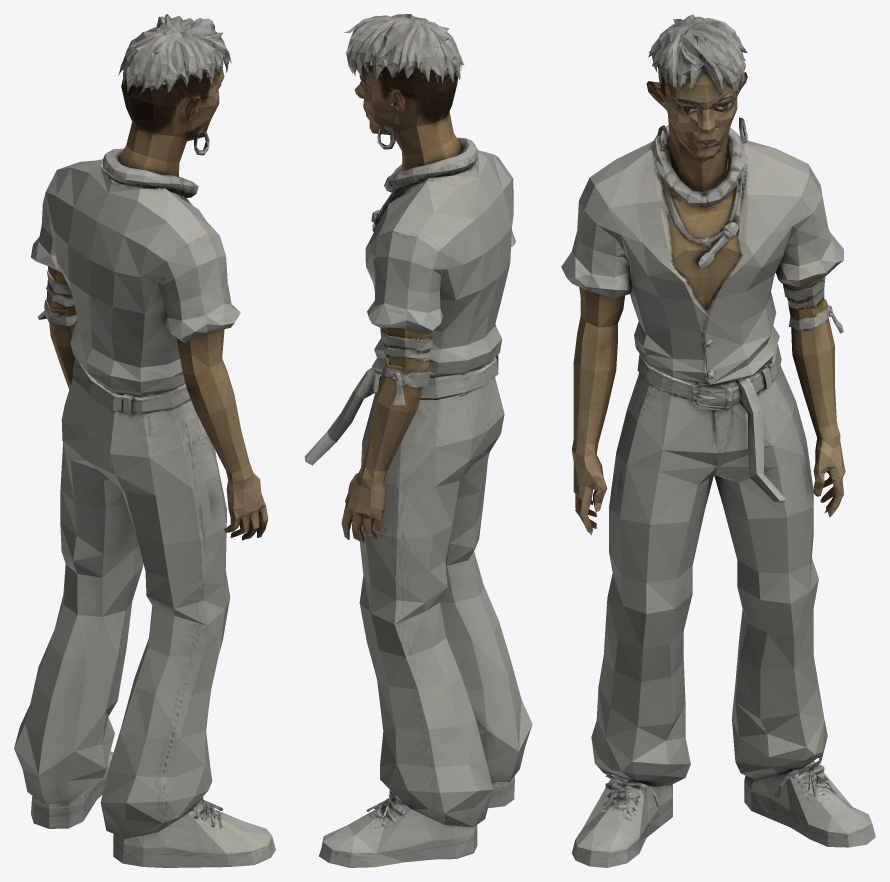
Rendered from student_11.glb.
3 renders of one model, left to right at view 1: azimuth 30°, elevation 25°; view 2: azimuth 150°, elevation 25°; view 3: azimuth 270°, elevation 25°, orthographic. The views are drawn at different scales.
Visible parts, largest first — view 1: tripo_node_65347da7-119b-49c2-a6ec-91897fb2a605; view 2: tripo_node_65347da7-119b-49c2-a6ec-91897fb2a605; view 3: tripo_node_65347da7-119b-49c2-a6ec-91897fb2a605.
Boxes of the visible parts, x1,y1,x2,y2 form: tripo_node_65347da7-119b-49c2-a6ec-91897fb2a605: [14, 14, 275, 867]; tripo_node_65347da7-119b-49c2-a6ec-91897fb2a605: [304, 14, 532, 867]; tripo_node_65347da7-119b-49c2-a6ec-91897fb2a605: [561, 14, 875, 867].
Size of the model in its own units: 0.2363 by 0.998 by 0.3457.
Materials: 1 (1 with a texture image).
